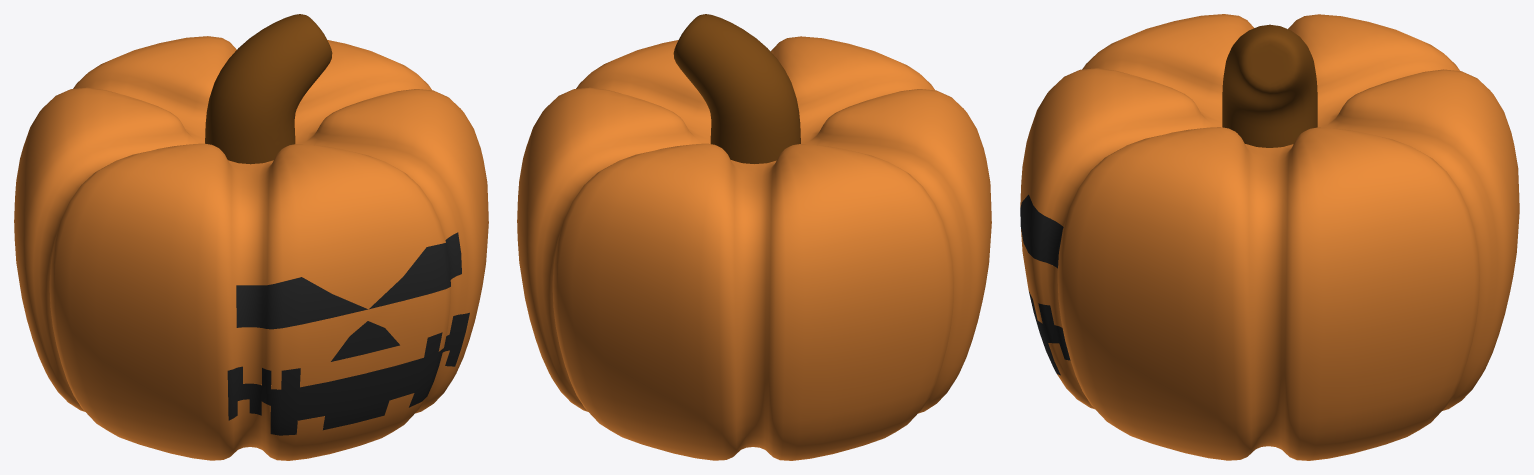
File: pumpkin.glb
3 renders of one model, left to right at view 1: azimuth 30°, elevation 25°; view 2: azimuth 150°, elevation 25°; view 3: azimuth 270°, elevation 25°, orthographic. The views are drawn at different scales.
Visible parts, largest first — view 1: Pumpkin, Stalk; view 2: Pumpkin, Stalk; view 3: Pumpkin, Stalk.
Part boxes in pixels (<box>): Pumpkin: <box>14,36,488,460</box>; Stalk: <box>205,14,332,164</box>; Pumpkin: <box>517,36,991,460</box>; Stalk: <box>673,14,800,163</box>; Pumpkin: <box>1020,14,1519,460</box>; Stalk: <box>1222,24,1317,147</box>.
Bounding box in the file's own units: 2.67 × 2.23 × 2.59.
